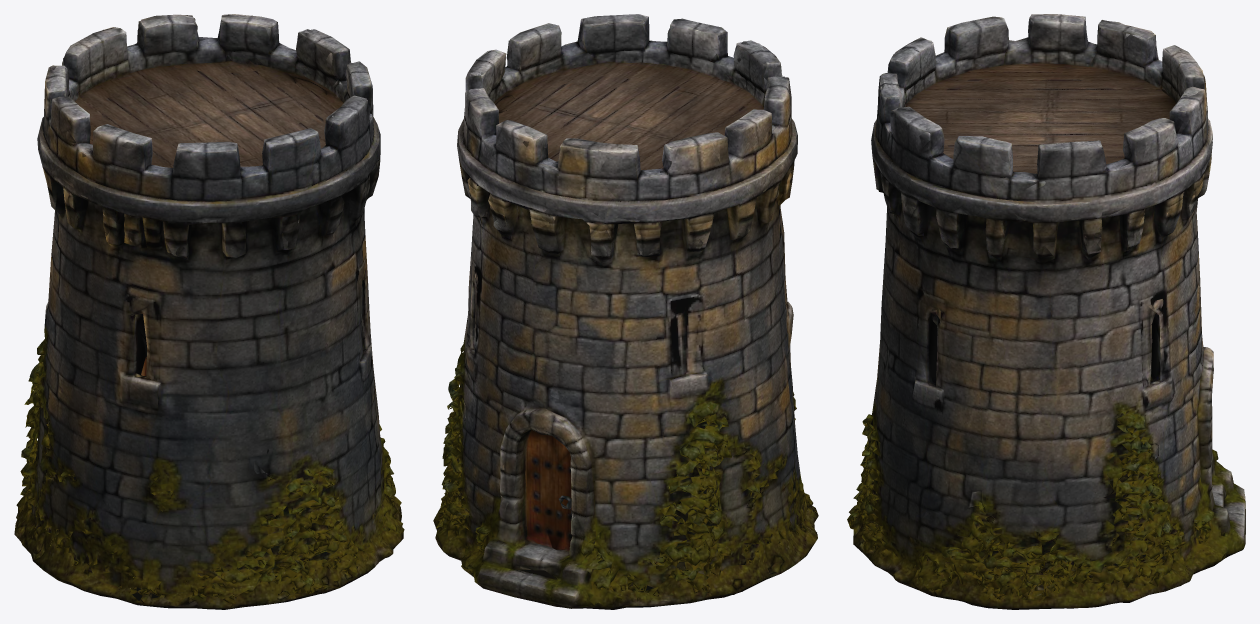
Rendered from tower.glb.
3 views of the same model, side by side, from view 1: azimuth 30°, elevation 25°; view 2: azimuth 150°, elevation 25°; view 3: azimuth 270°, elevation 25° (orthographic).
Visible parts, largest first — view 1: terrain-tower; view 2: terrain-tower; view 3: terrain-tower.
Boxes of the visible parts, x1,y1,x2,y2 form: terrain-tower: [14, 14, 404, 609]; terrain-tower: [433, 14, 818, 609]; terrain-tower: [847, 14, 1245, 609].
Size of the model in its own units: 1.02 by 1.33 by 1.06.
1 material, 1 textured.
